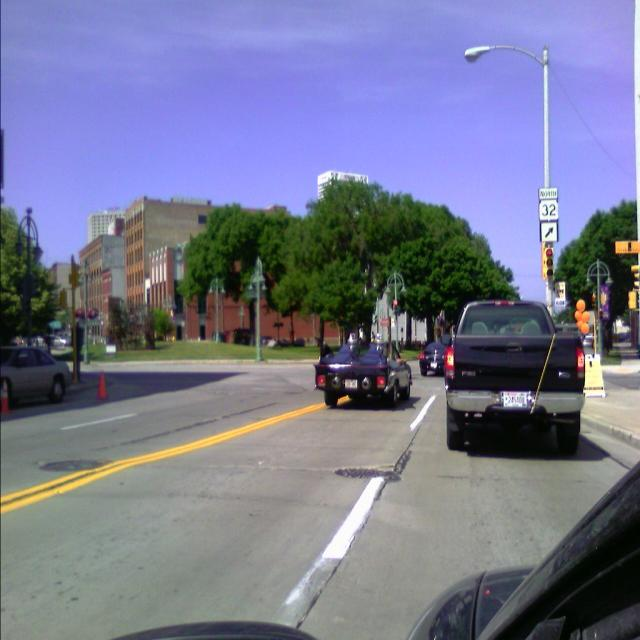car: (315, 341, 413, 408)
